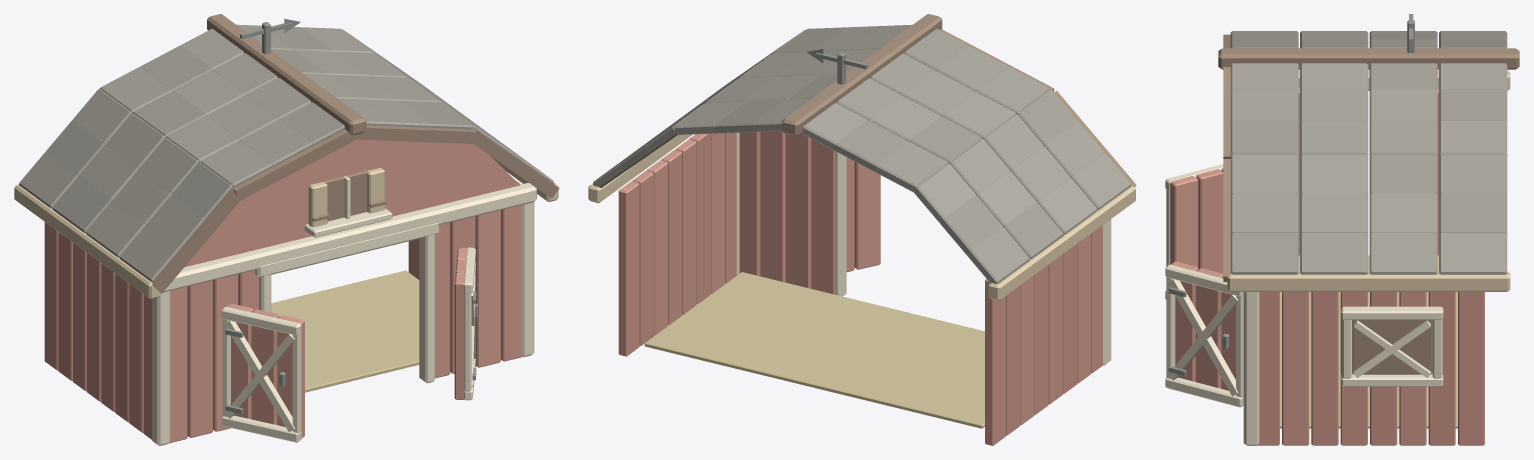
File: crafted-barn-2-ready-front.glb
The picture shows the model from 3 angles, left to right: view 1: azimuth 30°, elevation 25°; view 2: azimuth 150°, elevation 25°; view 3: azimuth 270°, elevation 25°; orthographic projection. The views are drawn at different scales.
Parts seen in each view (by area): view 1: gable-1, hay-floor, header-1, siding-31, siding-36, ridge-cap, siding-37, corner-post-1, siding-30, eave-fascia, siding-34, door-frame-1 (+67 smaller); view 2: hay-floor, siding-35, siding-36, siding-22, siding-34, ridge-cap, siding-37, siding-14, eave-fascia, door-siding-3, siding-25, siding-26 (+52 smaller); view 3: eave-fascia-1, ridge-cap, siding-27, siding-28, siding-22, side-window-dark, siding-29, siding-23, roof-tile-44, roof-tile-45, roof-tile-46, roof-tile-47 (+53 smaller).
Part boxes in pixels (x1,y1,x2,y2): gable-1: (184, 139, 519, 267); hay-floor: (271, 270, 419, 392); header-1: (163, 183, 536, 292); siding-31: (187, 280, 212, 437); siding-36: (475, 210, 500, 367); ridge-cap: (207, 14, 366, 135); siding-37: (501, 205, 522, 361); corner-post-1: (152, 291, 170, 445); siding-30: (168, 286, 187, 443); eave-fascia: (14, 184, 160, 298); siding-34: (435, 222, 450, 378); door-frame-1: (419, 234, 434, 383); hay-floor: (644, 272, 984, 428); siding-35: (785, 133, 811, 288); siding-36: (760, 131, 785, 282); siding-22: (618, 181, 639, 356); siding-34: (811, 139, 834, 294); ridge-cap: (782, 14, 942, 136); siding-37: (739, 132, 760, 276); siding-14: (985, 279, 1005, 445); eave-fascia: (988, 186, 1135, 300); door-siding-3: (854, 162, 880, 269); siding-25: (661, 150, 682, 325); siding-26: (675, 139, 696, 314); eave-fascia-1: (1227, 271, 1510, 291); ridge-cap: (1218, 48, 1519, 69); siding-27: (1311, 292, 1338, 445); siding-28: (1282, 292, 1309, 445); siding-22: (1458, 292, 1484, 445); side-window-dark: (1352, 320, 1432, 374); siding-29: (1257, 292, 1279, 445); siding-23: (1428, 292, 1455, 445); roof-tile-44: (1439, 233, 1507, 274); roof-tile-45: (1369, 233, 1437, 274); roof-tile-46: (1300, 233, 1368, 274); roof-tile-47: (1230, 233, 1298, 274).
Bounding box in the file's own units: 2.93 × 2.18 × 2.12.
